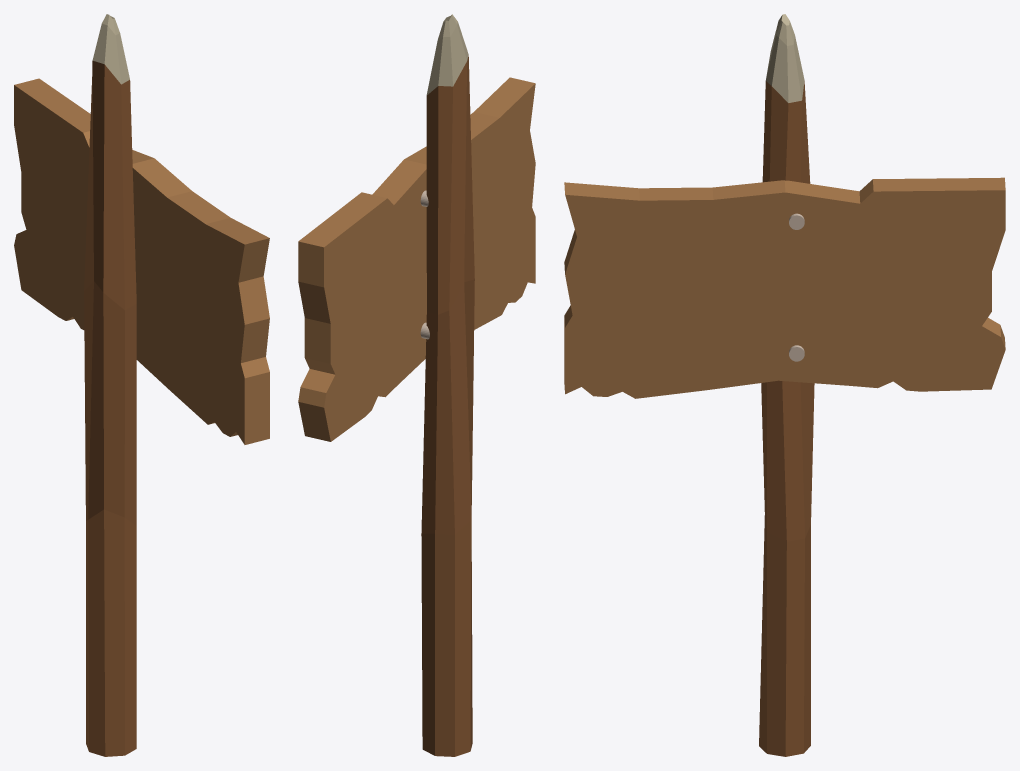
The model's file is Sign Board.fbx.
3 views of the same model, side by side, from view 1: azimuth 30°, elevation 25°; view 2: azimuth 150°, elevation 25°; view 3: azimuth 270°, elevation 25° (orthographic).
Parts seen in each view (by area): view 1: Sign Board; view 2: Sign Board; view 3: Sign Board.
Part boxes in pixels (x1,y1,x2,y2): Sign Board: (14,14,269,756); Sign Board: (298,14,535,756); Sign Board: (564,14,1005,756).
Size of the model in its own units: 25.18 by 246 by 135.
